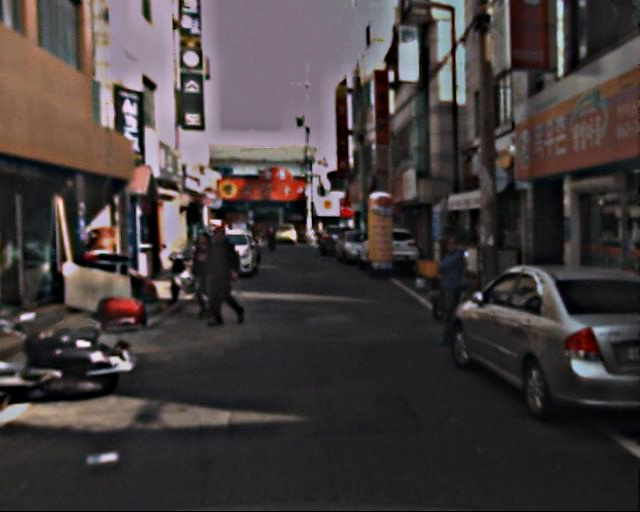person: (430, 228, 478, 352), (207, 220, 242, 323), (190, 228, 218, 318), (264, 217, 283, 254)
